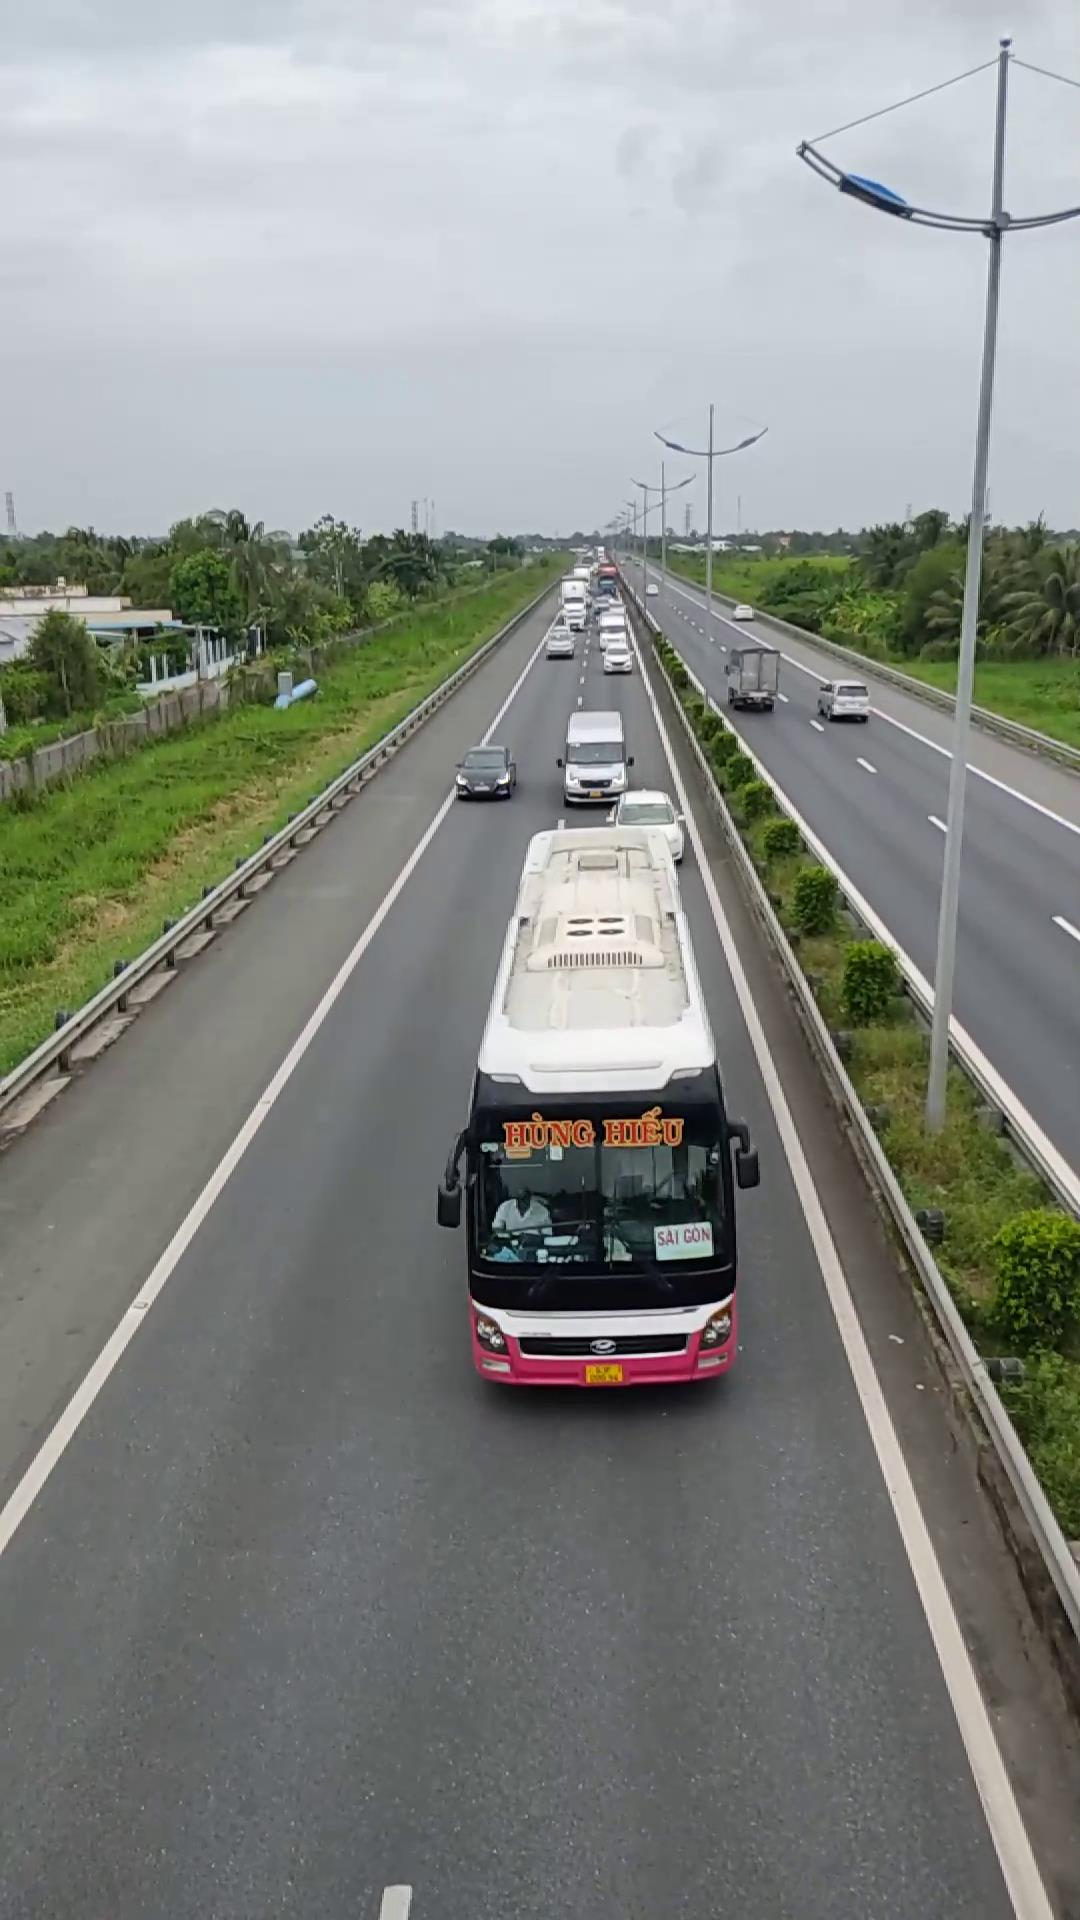bus: (438, 804, 756, 1393)
